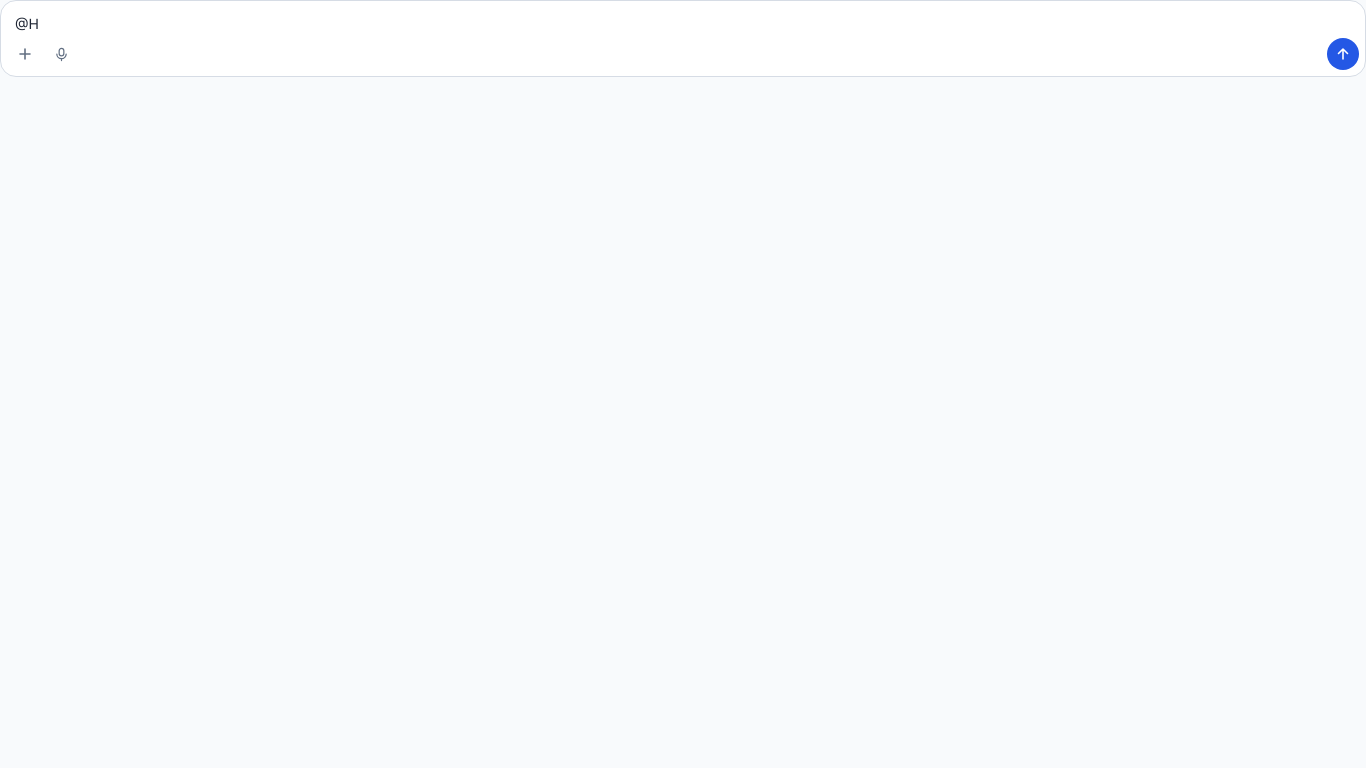
it: the + menu › Schedule this opens the schedule dialog with the message as its instruction
Replace the text in the text box named "Message the workforce" with "Summarise new support tickets": [684, 22] box 9,7 -> 1359,38
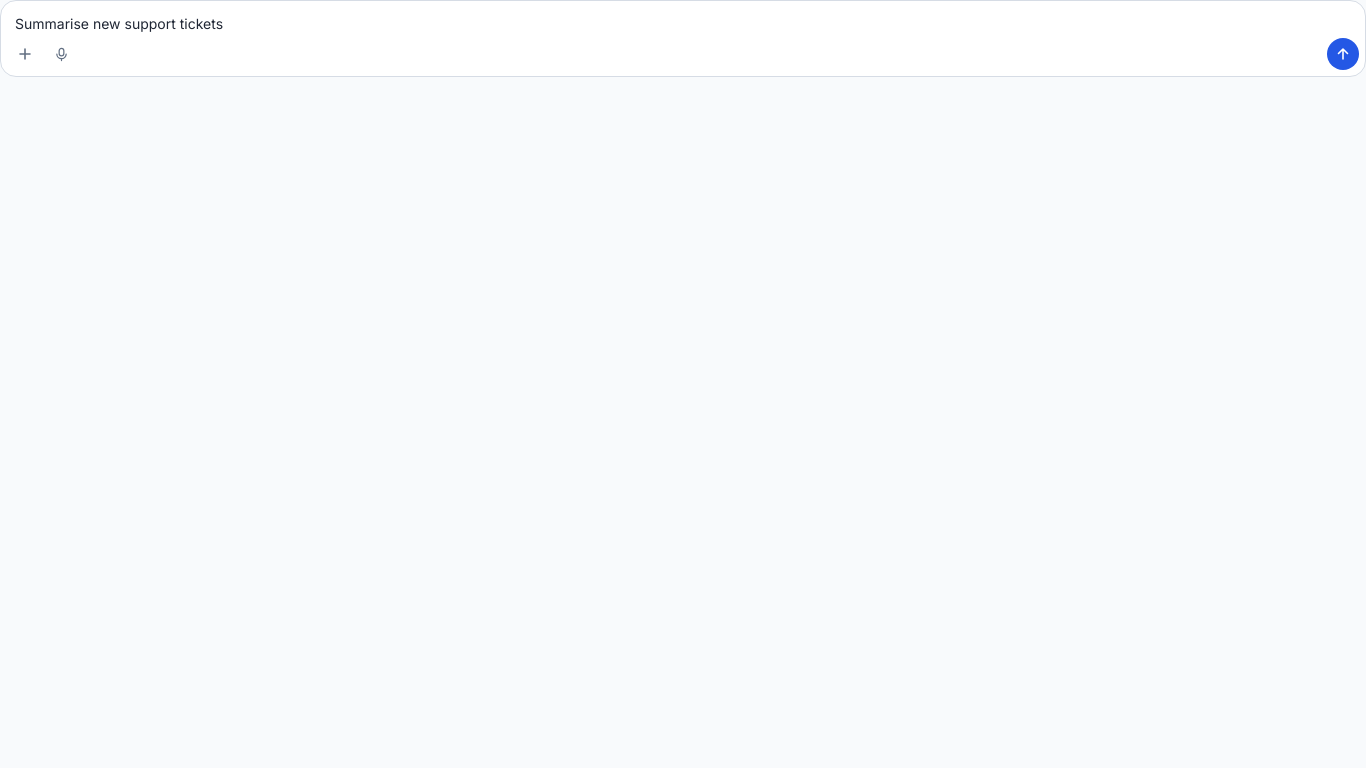
Click the button named "Add to message": [25, 54] box 9,38 -> 41,70
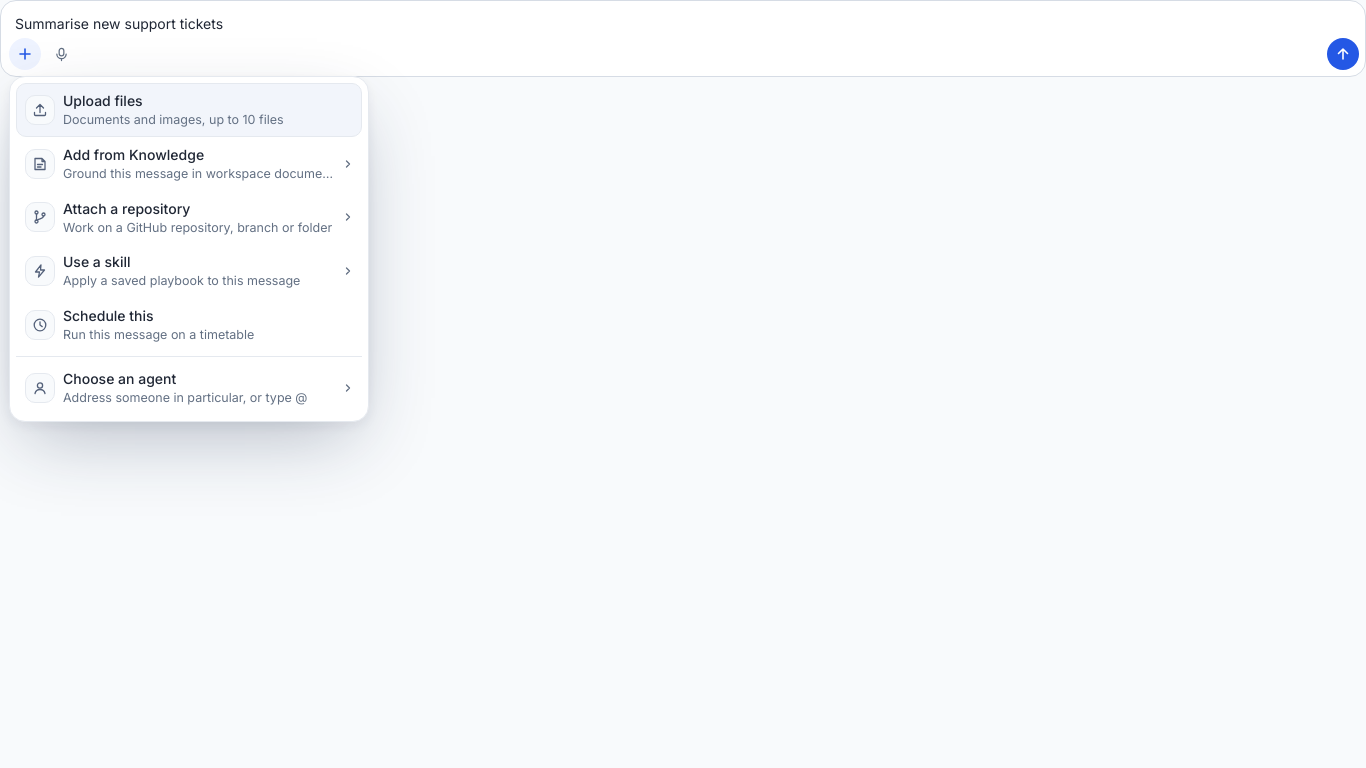
Click the menu item "Schedule this Run this message on a timetable": [189, 325] box 16,298 -> 362,352
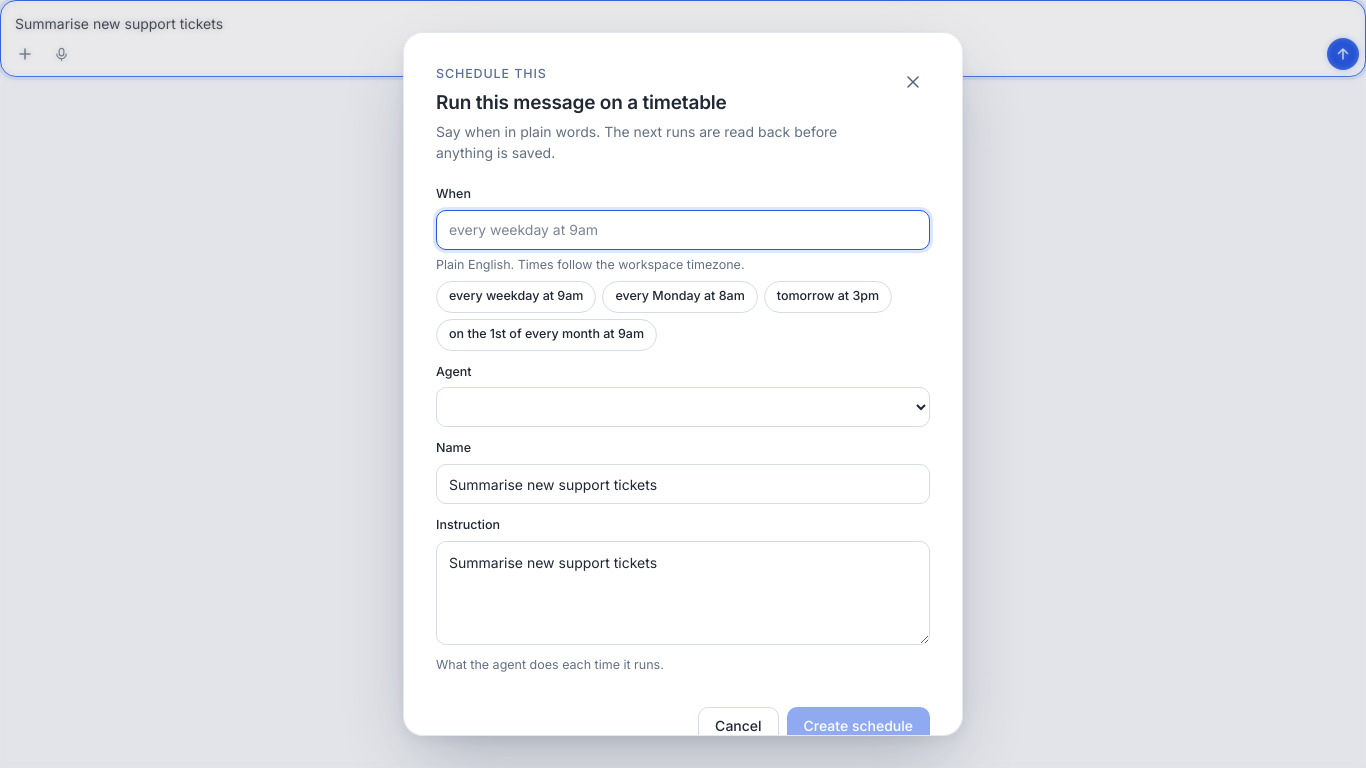
Expected: the menu is gone
Expected: the text box labelled "Instruction" holds "Summarise new support tickets", 436,541 -> 930,645
Expected: the field labelled "Name" holds "Summarise new support tickets", 436,464 -> 930,504
